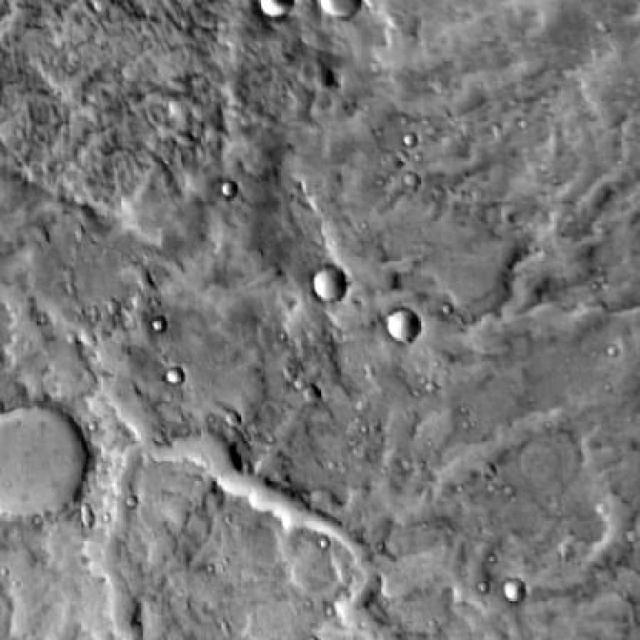crater: (0, 406, 75, 526), (385, 309, 421, 345), (313, 267, 349, 302), (317, 0, 360, 22), (261, 0, 287, 18), (502, 584, 523, 604), (166, 365, 185, 384), (220, 178, 237, 196), (151, 316, 166, 332)
